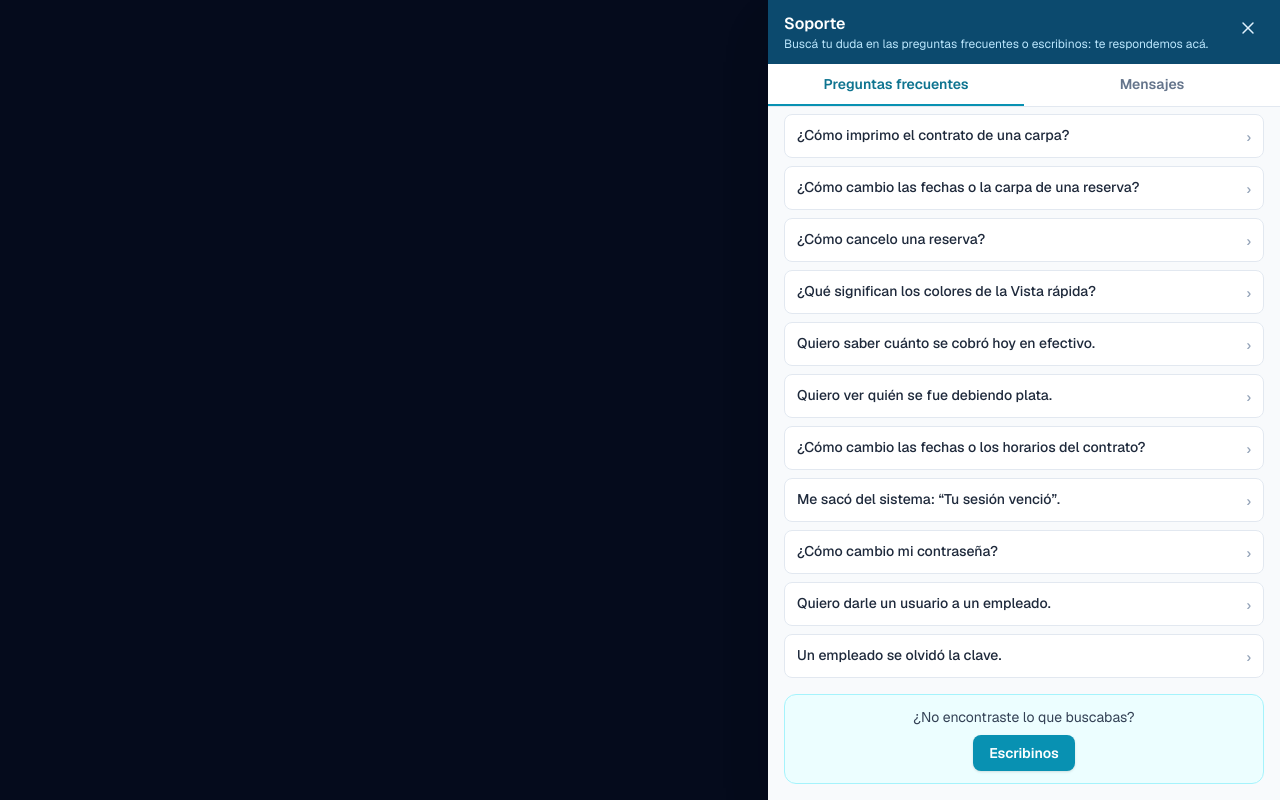
Scenario: las pestanas del panel de soporte › abre en preguntas frecuentes sin pedir el hilo; Escribinos pasa al chat
(page scrolled)
Click the button "Escribinos": (1024, 753) [973,735,1075,771]
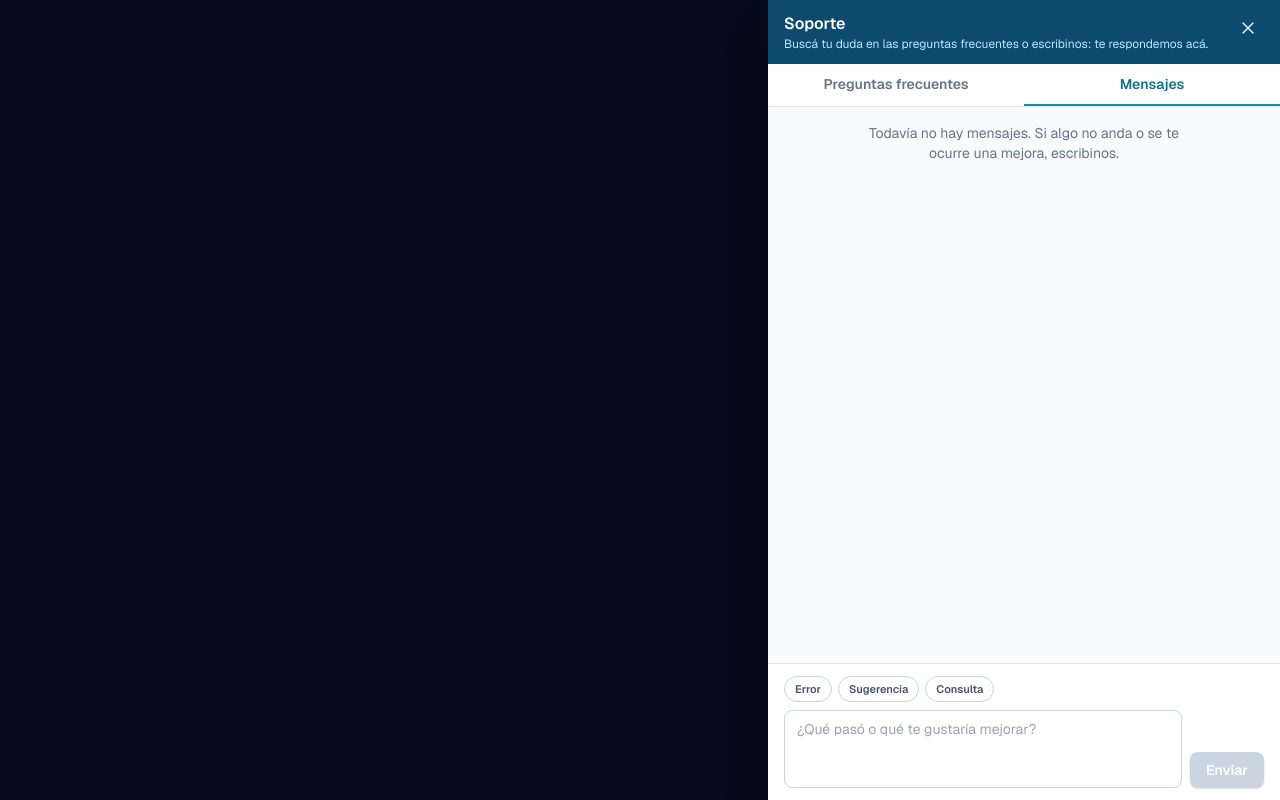
Expected: the text box named "Mensaje" is shown, [784,710,1182,788]
